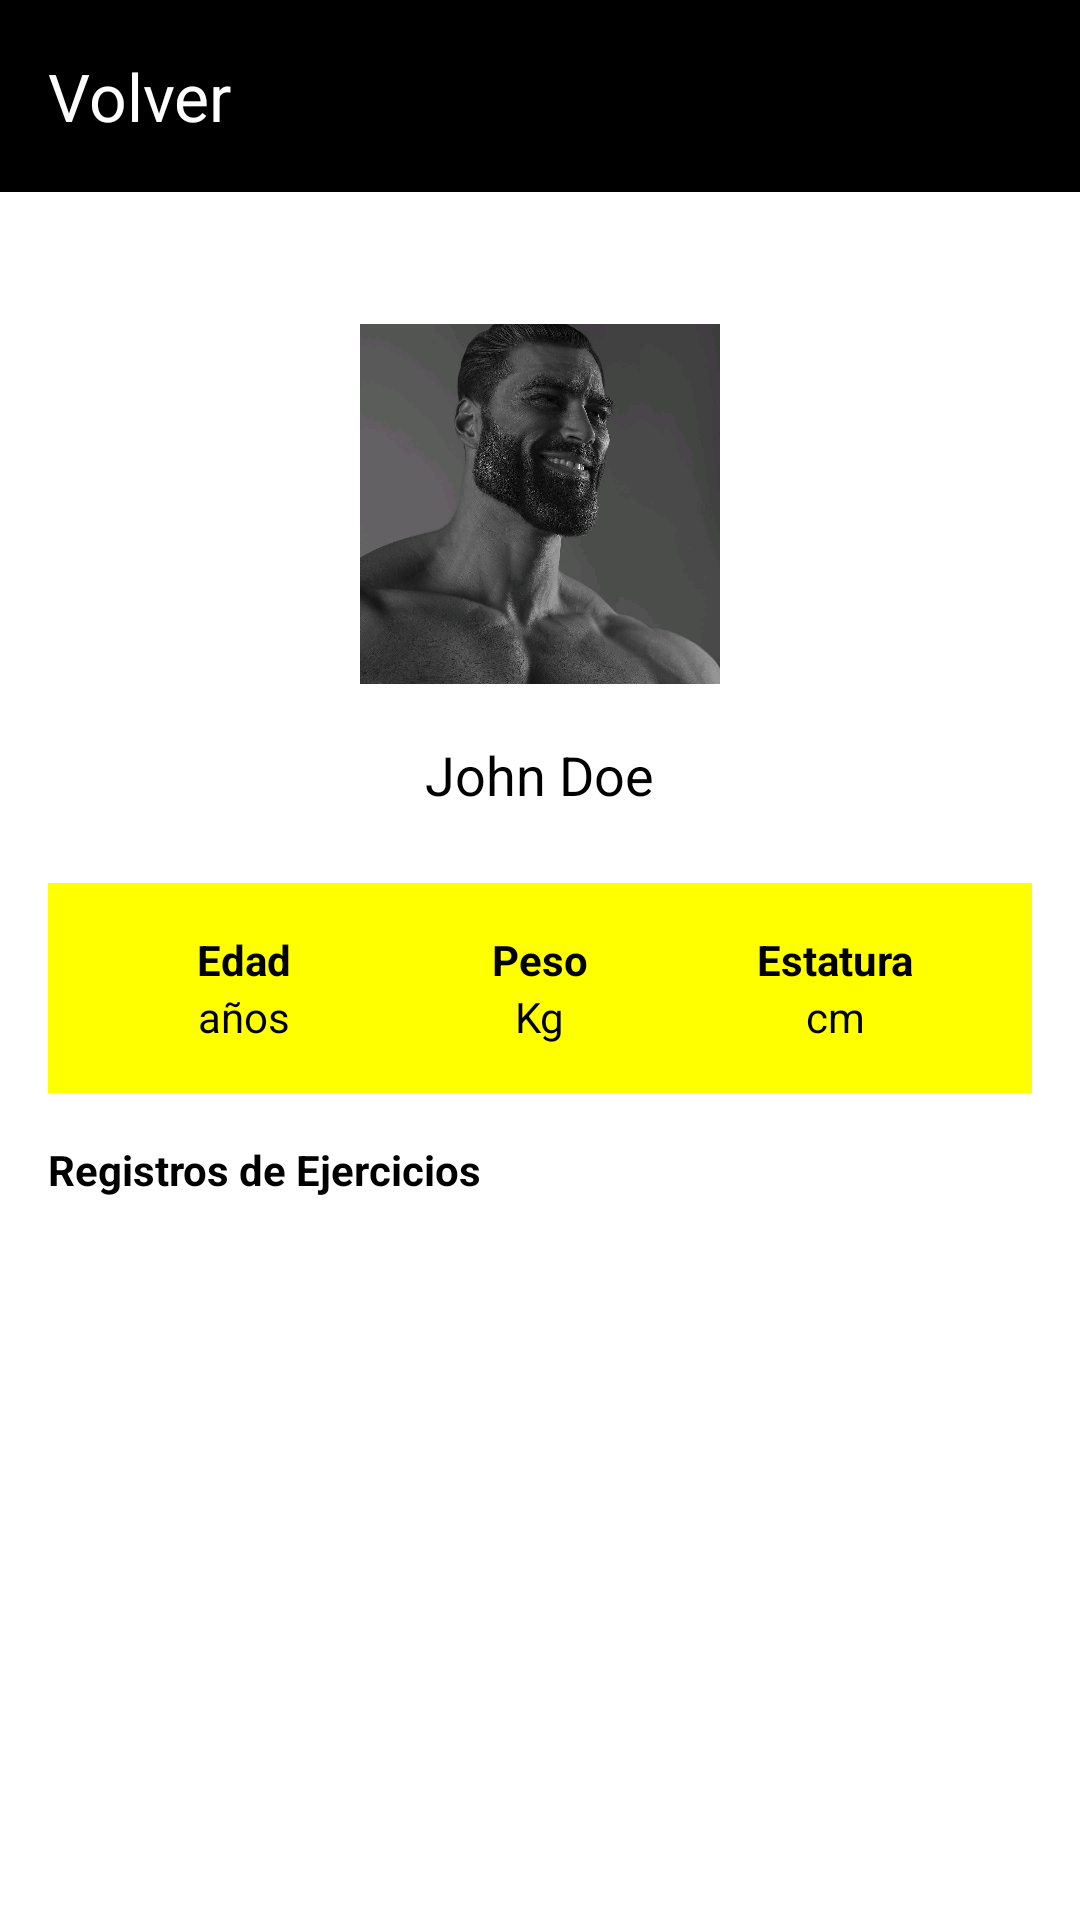

Icons on this 1080×1920 Android screen, each with the point to tap as [x,y]:
perfil: [540,504]
